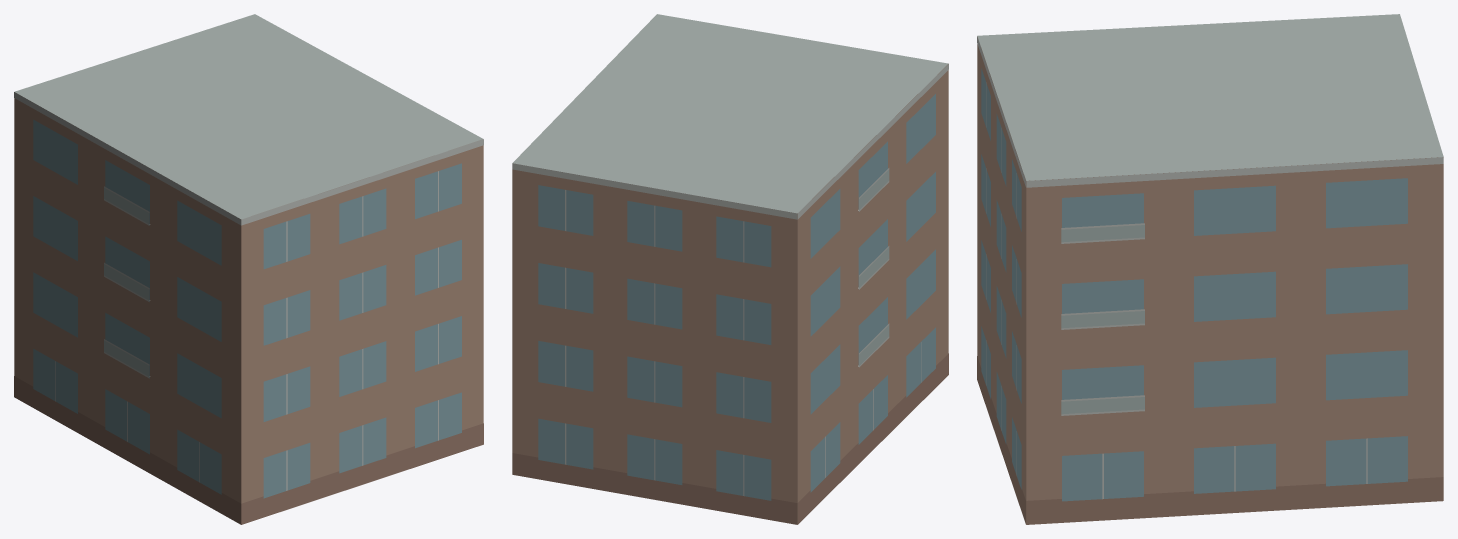
The model's file is survey-upis-33040166.glb.
3 views of the same model, side by side, from view 1: azimuth 30°, elevation 25°; view 2: azimuth 150°, elevation 25°; view 3: azimuth 270°, elevation 25° (orthographic). The views are drawn at different scales.
Visible parts, largest first — view 1: survey-upis-33040166.tmp; view 2: survey-upis-33040166.tmp; view 3: survey-upis-33040166.tmp.
Part boxes in pixels (left/top/right/bottom): survey-upis-33040166.tmp: left=14, top=14, right=483, bottom=524; survey-upis-33040166.tmp: left=512, top=14, right=948, bottom=524; survey-upis-33040166.tmp: left=977, top=14, right=1443, bottom=524.
Bounding box in the file's own units: 12.71 × 12.2 × 15.01.
